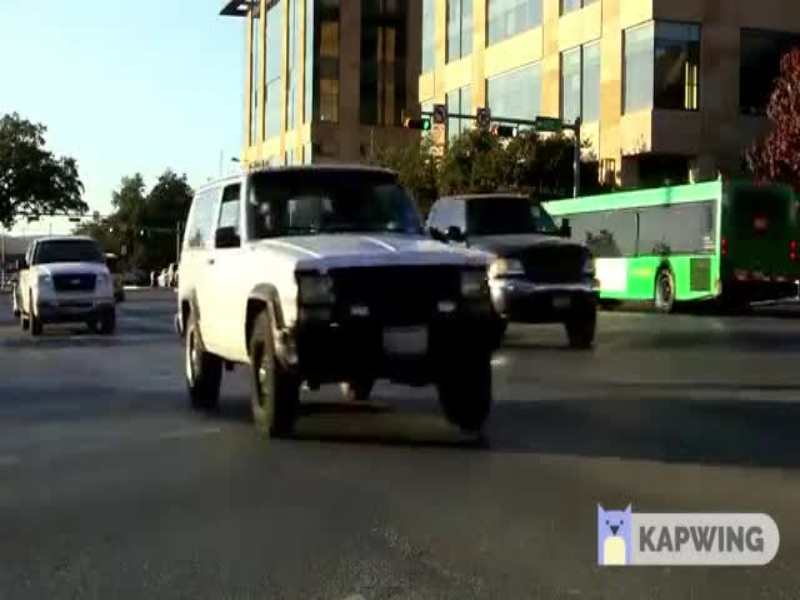bus: (600, 169, 798, 316)
car: (156, 155, 494, 430), (480, 186, 609, 356), (12, 234, 120, 331)
